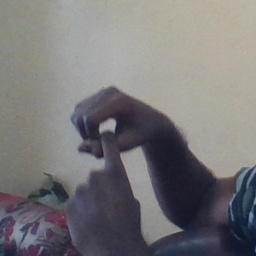Q: (64, 84, 166, 234)
